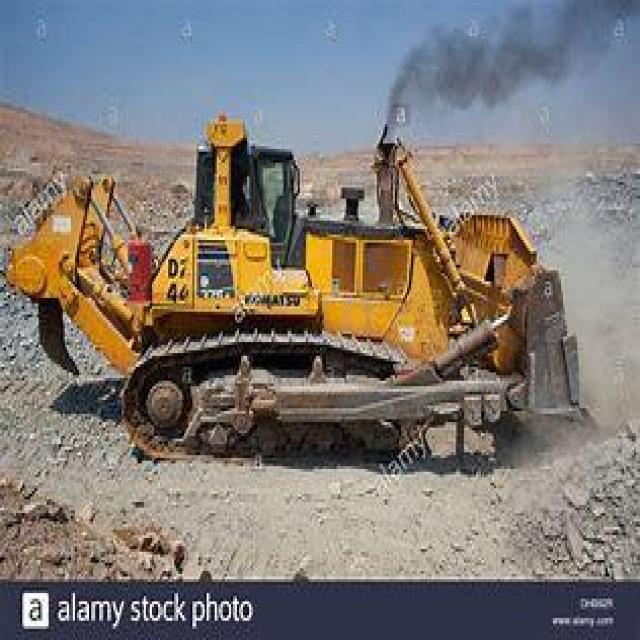buldozerpayloadergrader: (4, 105, 612, 477)
